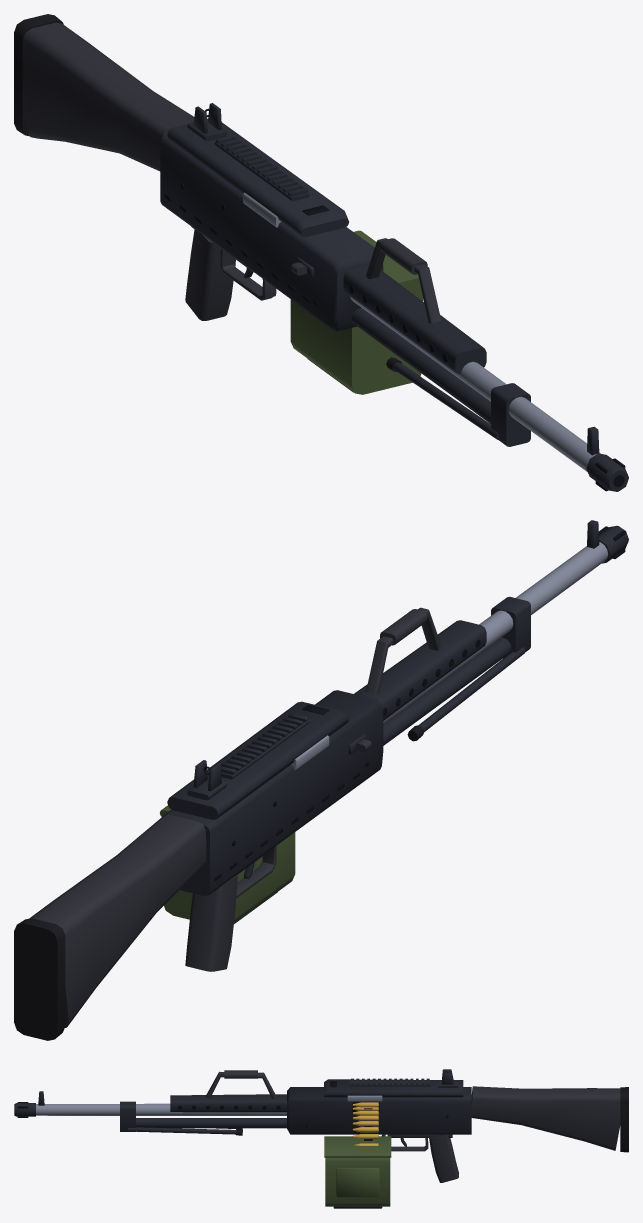
3 views of the same model, one above another, from view 1: azimuth 30°, elevation 25°; view 2: azimuth 150°, elevation 25°; view 3: azimuth 270°, elevation 25° (orthographic). The views are drawn at different scales.
Visible parts, largest first — view 1: Body.007, Cover, AmmoBox; view 2: Body.007, Cover, AmmoBox; view 3: Body.007, AmmoBox, Cover, Belt.
Part boxes in pixels (box(x1,y1,x2,y2)): Body.007: box(14, 14, 628, 491); Cover: box(167, 103, 348, 237); AmmoBox: box(290, 230, 423, 394); Body.007: box(14, 520, 628, 1040); Cover: box(167, 701, 349, 819); AmmoBox: box(160, 805, 295, 923); Body.007: box(14, 1070, 628, 1182); AmmoBox: box(324, 1136, 391, 1208); Cover: box(324, 1069, 463, 1097); Belt: box(352, 1102, 378, 1145).
Size of the model in its own units: 15.6 by 23.2 by 114.
